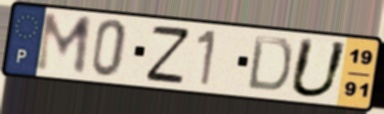0: (91, 18, 132, 80)
1: (194, 29, 218, 89)
D: (245, 33, 295, 94)
M: (32, 11, 95, 78)
U: (286, 36, 352, 101)
Z: (144, 24, 193, 85)
